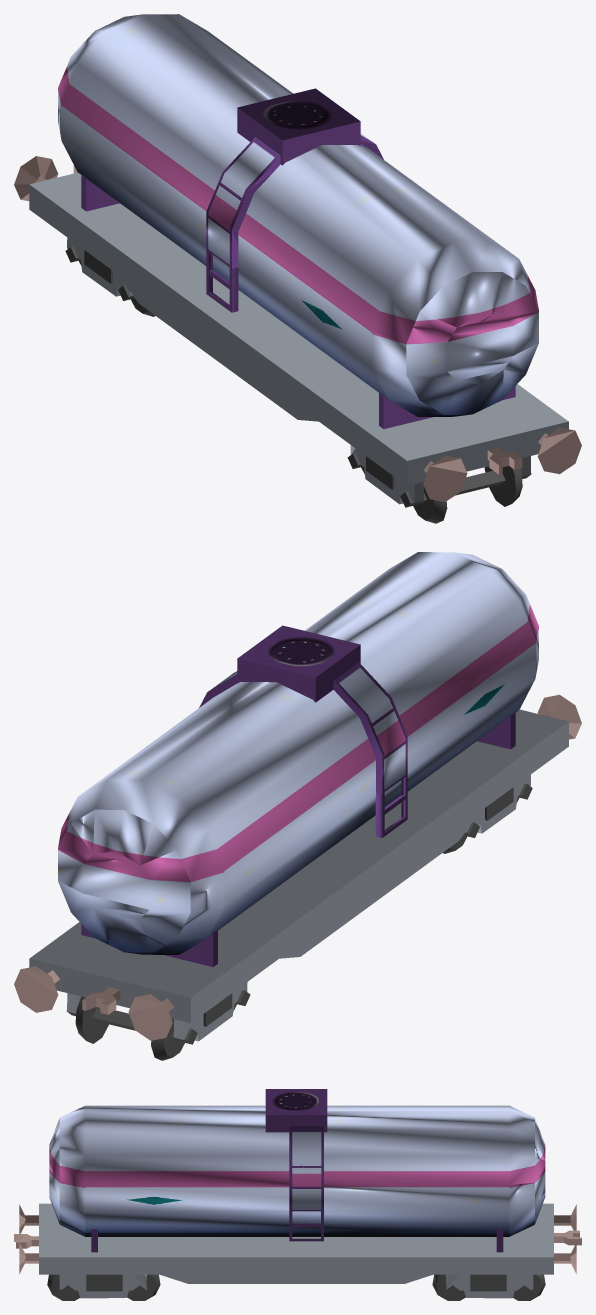
The model's file is tankcarblue.dae.
The picture shows the model from 3 angles, top to bottom: view 1: azimuth 30°, elevation 25°; view 2: azimuth 150°, elevation 25°; view 3: azimuth 270°, elevation 25°; orthographic projection. The views are drawn at different scales.
Visible parts, largest first — view 1: 9.0.242.0_Pts_Material__4__Surf, 9.0.242.0_Pts_Material_Surf, 9.0.242.0_Pts_Material__3__Surf, 9.0.242.0_Pts_Material__2__Surf; view 2: 9.0.242.0_Pts_Material__4__Surf, 9.0.242.0_Pts_Material_Surf, 9.0.242.0_Pts_Material__3__Surf, 9.0.242.0_Pts_Material__2__Surf; view 3: 9.0.242.0_Pts_Material__4__Surf, 9.0.242.0_Pts_Material_Surf, 9.0.242.0_Pts_Material__2__Surf, 9.0.242.0_Pts_Material__3__Surf.
Boxes of the visible parts, bbox=[...] form: 9.0.242.0_Pts_Material__4__Surf: bbox=[58, 14, 538, 428]; 9.0.242.0_Pts_Material_Surf: bbox=[29, 172, 568, 504]; 9.0.242.0_Pts_Material__3__Surf: bbox=[14, 156, 581, 501]; 9.0.242.0_Pts_Material__2__Surf: bbox=[65, 246, 531, 523]; 9.0.242.0_Pts_Material__4__Surf: bbox=[58, 552, 538, 966]; 9.0.242.0_Pts_Material_Surf: bbox=[29, 709, 568, 1041]; 9.0.242.0_Pts_Material__3__Surf: bbox=[14, 694, 581, 1040]; 9.0.242.0_Pts_Material__2__Surf: bbox=[66, 783, 532, 1060]; 9.0.242.0_Pts_Material__4__Surf: bbox=[49, 1089, 545, 1252]; 9.0.242.0_Pts_Material_Surf: bbox=[39, 1203, 553, 1298]; 9.0.242.0_Pts_Material__2__Surf: bbox=[47, 1274, 545, 1300]; 9.0.242.0_Pts_Material__3__Surf: bbox=[14, 1204, 581, 1273].
Bounding box in the file's own units: 3.49 × 5.22 × 14.32.
4 materials, 1 textured.
